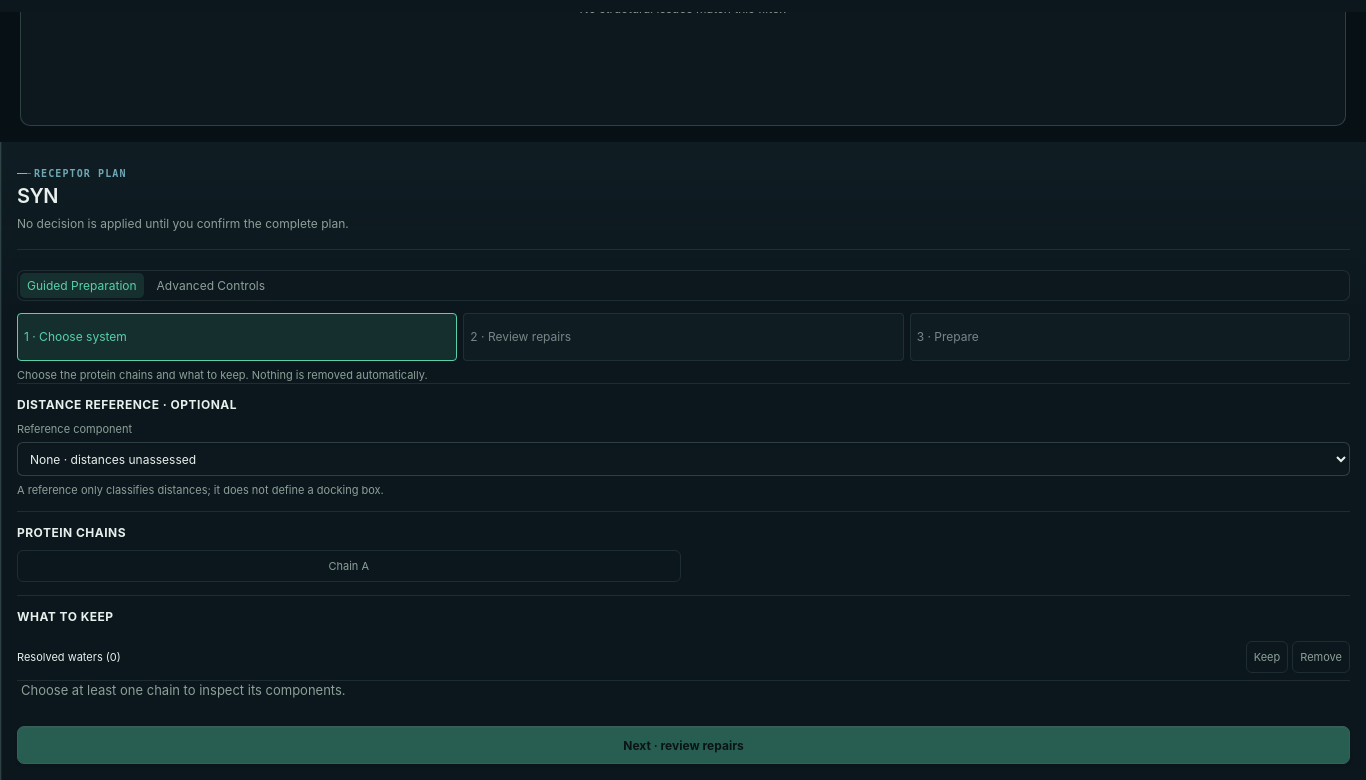
Scenario: starts with three guided steps and no scientific defaults applied
(page scrolled)
expect the button "2 · Review repairs" is disabled: met, box x1=463 y1=313 x2=904 y2=361
Click the button "Chain A" at (349, 566), box x1=17 y1=550 x2=680 y2=582
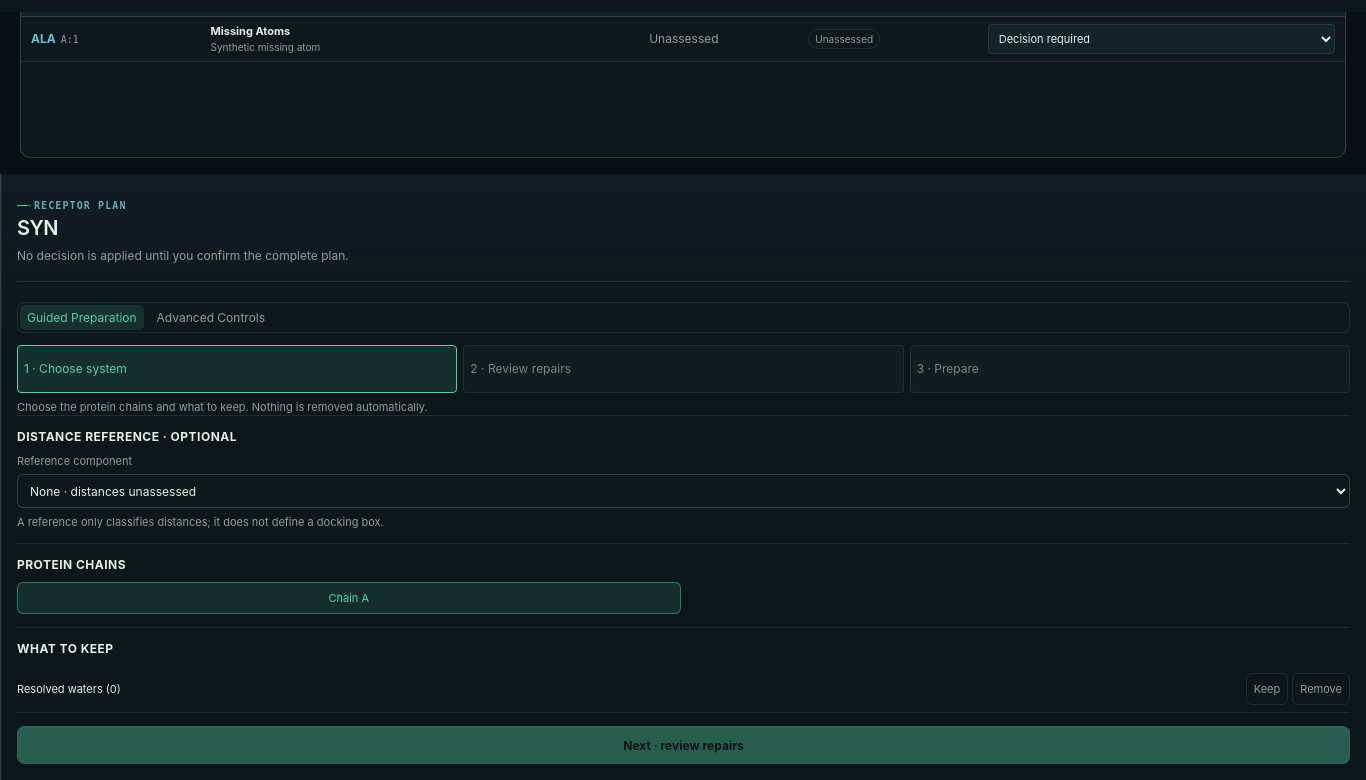
expect the dropdown named "Decision for ALA 1" shows "Decision required": met, box x1=988 y1=24 x2=1335 y2=54
